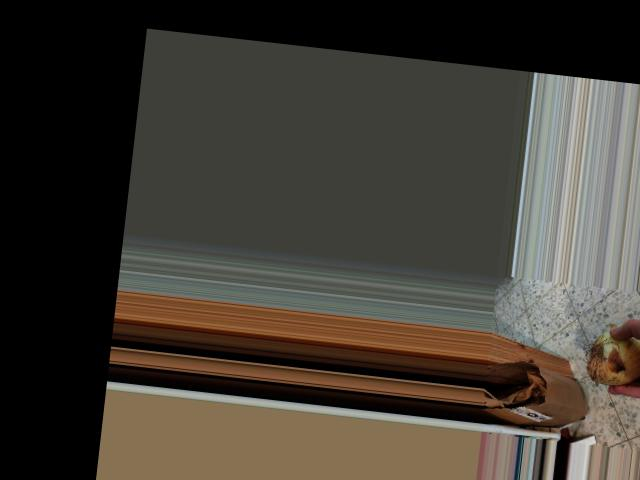onion: (584, 320, 640, 390)
